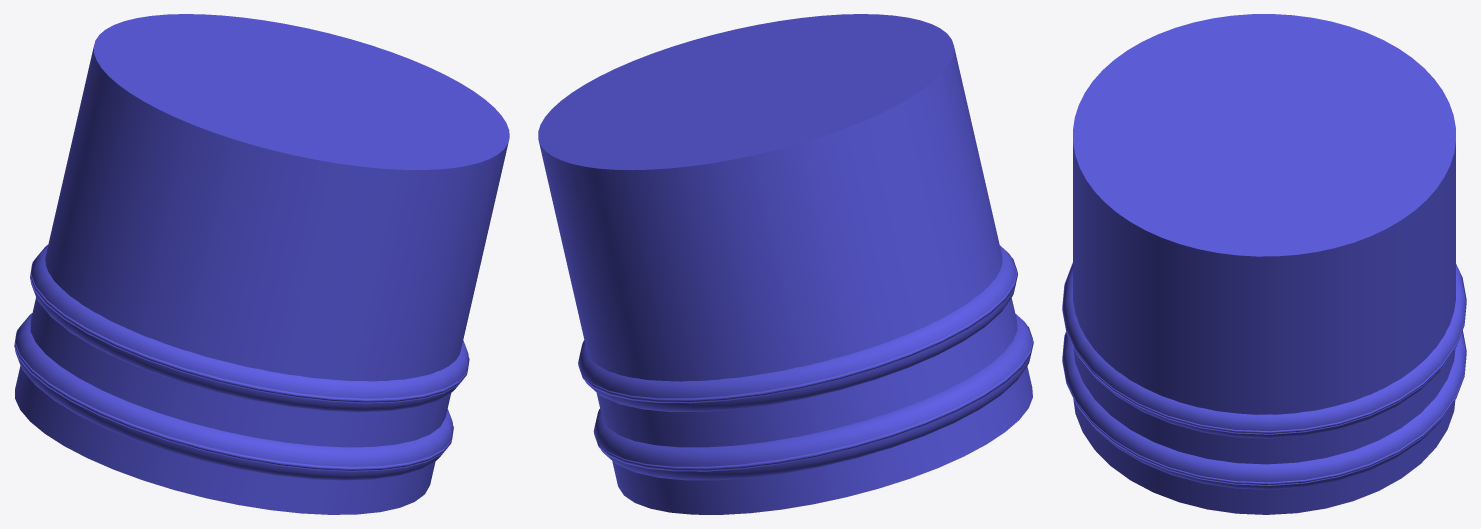
The model's file is bombilla89.obj.
3 views of the same model, side by side, from view 1: azimuth 30°, elevation 25°; view 2: azimuth 150°, elevation 25°; view 3: azimuth 270°, elevation 25° (orthographic). The views are drawn at different scales.
Visible parts, largest first — view 1: Cylinder001, Cylinder004, Cylinder003, Cylinder006, Cylinder002; view 2: Cylinder001, Cylinder004, Cylinder003, Cylinder006, Cylinder002; view 3: Cylinder001, Cylinder004, Cylinder002, Cylinder003, Cylinder006.
Boxes of the visible parts, left/top/right/bottom form: Cylinder001: left=45, top=14, right=509, bottom=381; Cylinder004: left=14, top=313, right=453, bottom=480; Cylinder003: left=30, top=297, right=451, bottom=447; Cylinder006: left=15, top=366, right=435, bottom=514; Cylinder002: left=30, top=245, right=469, bottom=412; Cylinder001: left=538, top=14, right=1002, bottom=381; Cylinder004: left=593, top=314, right=1033, bottom=480; Cylinder003: left=596, top=298, right=1017, bottom=447; Cylinder006: left=612, top=366, right=1032, bottom=514; Cylinder002: left=578, top=245, right=1017, bottom=411; Cylinder001: left=1073, top=14, right=1455, bottom=414; Cylinder004: left=1062, top=330, right=1466, bottom=489; Cylinder002: left=1062, top=262, right=1466, bottom=438; Cylinder003: left=1073, top=347, right=1455, bottom=464; Cylinder006: left=1073, top=399, right=1455, bottom=514.
Bounding box in the file's own units: 81 × 74.59 × 72.21.
